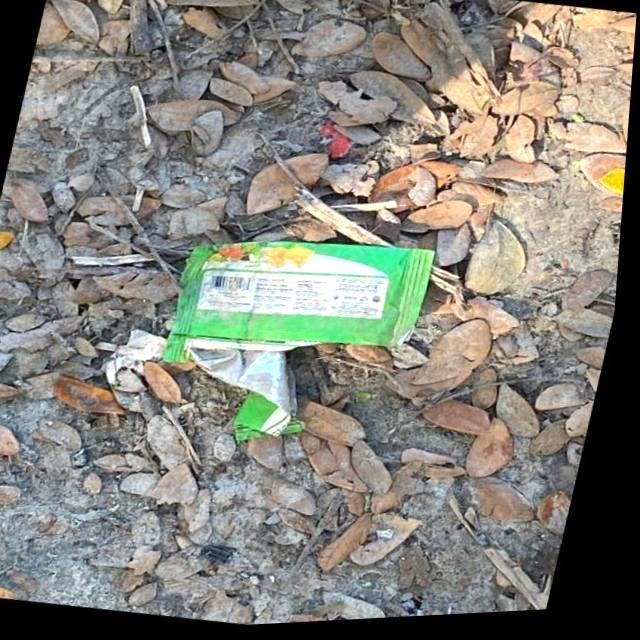packet: (166, 214, 441, 450)
